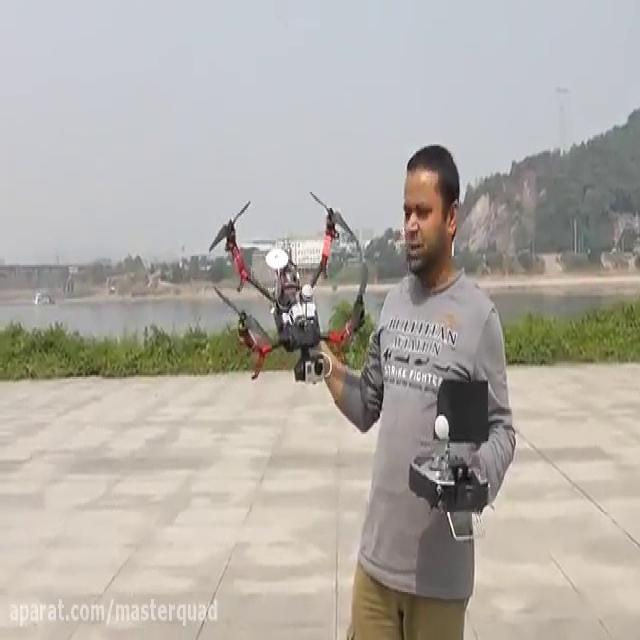drone: (205, 185, 371, 389)
